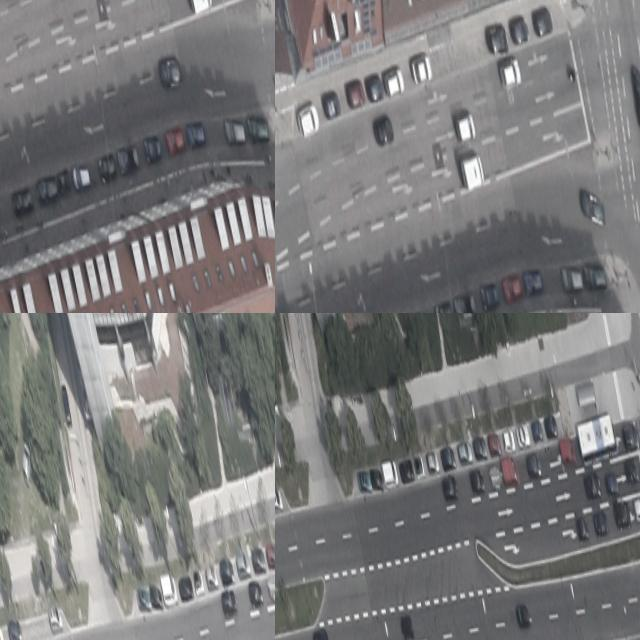UAI: (577, 184, 607, 230), (626, 60, 640, 133), (17, 438, 37, 488), (294, 102, 321, 138), (116, 141, 141, 175), (157, 56, 183, 88), (35, 174, 60, 206), (498, 56, 523, 88), (11, 186, 35, 219), (530, 4, 554, 36), (454, 111, 478, 143), (319, 87, 342, 120), (582, 262, 607, 292), (372, 113, 395, 145), (343, 77, 366, 109), (142, 133, 164, 166), (97, 152, 119, 185), (246, 114, 270, 144), (159, 570, 179, 606), (479, 280, 501, 312), (501, 274, 524, 304), (383, 67, 407, 95), (560, 264, 584, 292), (185, 119, 207, 149), (522, 267, 544, 297), (223, 117, 246, 145), (486, 24, 509, 52), (165, 126, 186, 156), (71, 162, 92, 192), (217, 555, 236, 588), (451, 289, 477, 313), (220, 587, 239, 619), (411, 56, 433, 83), (501, 457, 520, 488), (508, 16, 529, 44), (234, 548, 252, 580), (622, 419, 640, 451), (365, 73, 385, 101), (583, 471, 602, 500), (60, 384, 73, 426), (47, 602, 64, 634), (559, 435, 577, 465), (613, 499, 631, 528), (381, 459, 399, 488), (247, 578, 264, 608), (442, 474, 460, 502), (56, 168, 73, 197), (250, 545, 267, 574), (623, 456, 640, 485), (526, 451, 543, 480), (148, 582, 163, 612), (593, 510, 610, 536), (440, 445, 457, 471), (6, 616, 24, 640), (136, 585, 152, 612), (178, 575, 194, 601), (514, 603, 530, 629), (469, 467, 485, 493), (399, 458, 415, 484), (457, 441, 474, 465), (205, 564, 220, 591), (400, 613, 415, 640), (425, 447, 440, 473), (516, 422, 531, 448), (472, 435, 488, 459), (543, 414, 559, 438), (489, 464, 503, 491), (502, 426, 516, 453), (356, 469, 372, 492), (192, 569, 205, 597), (575, 517, 590, 541), (369, 467, 384, 491), (487, 432, 502, 456), (530, 417, 544, 442), (605, 471, 619, 495), (264, 539, 275, 569), (433, 299, 455, 313), (414, 454, 426, 478), (267, 574, 275, 601), (312, 628, 330, 640), (632, 495, 640, 521), (275, 487, 283, 510), (0, 621, 6, 640)
car: (575, 413, 619, 466)
harvester: (458, 152, 486, 191), (186, 0, 214, 15)
